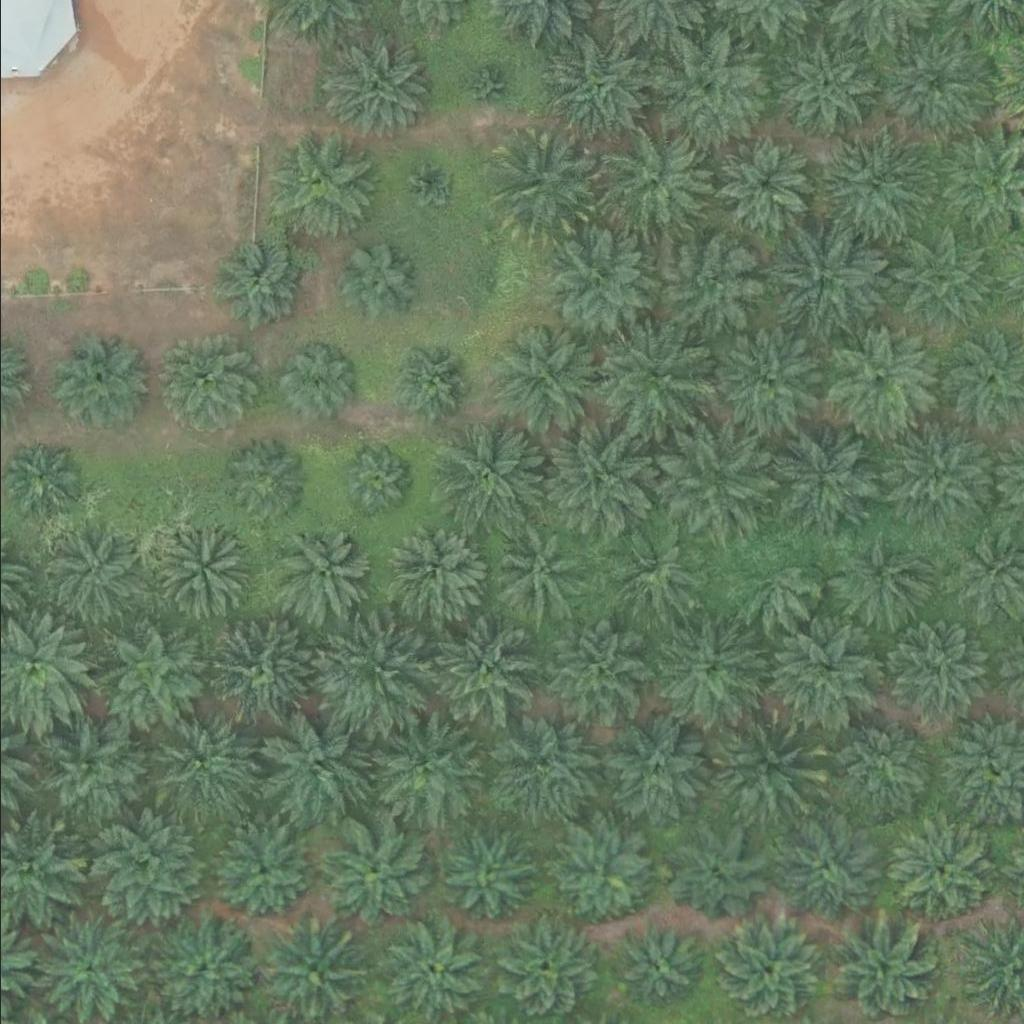Kelapa_Sawit: (439, 419, 553, 532), (708, 322, 822, 435), (598, 319, 712, 432), (879, 220, 993, 333), (769, 222, 883, 335), (814, 130, 928, 243), (880, 617, 993, 730), (600, 714, 713, 827), (490, 710, 603, 823), (766, 619, 879, 732), (653, 610, 766, 723), (536, 616, 649, 729), (489, 324, 602, 437), (649, 226, 762, 339), (318, 618, 431, 731), (201, 619, 314, 732), (370, 715, 483, 828), (256, 712, 369, 825), (145, 706, 258, 819), (30, 714, 143, 827), (90, 814, 203, 927), (424, 616, 538, 728), (658, 423, 772, 535), (541, 425, 655, 537), (263, 129, 377, 241), (488, 128, 601, 240), (877, 26, 990, 138), (880, 422, 993, 534), (820, 712, 933, 824), (705, 711, 818, 823), (765, 421, 878, 533), (822, 321, 935, 433), (542, 231, 655, 343), (598, 126, 711, 238), (652, 26, 765, 138), (545, 30, 658, 142), (314, 30, 427, 142), (92, 614, 205, 726), (316, 819, 429, 931), (494, 920, 595, 1020), (889, 819, 990, 919), (777, 816, 878, 916), (661, 825, 762, 925), (551, 826, 652, 926), (437, 823, 538, 923), (831, 531, 932, 631), (713, 135, 814, 235), (772, 37, 873, 137), (380, 519, 481, 619), (268, 525, 369, 625), (150, 520, 251, 620), (211, 825, 312, 925), (605, 523, 705, 623), (486, 527, 586, 627), (156, 337, 256, 437), (49, 332, 149, 432), (37, 530, 137, 630), (612, 924, 700, 1012), (727, 540, 815, 628), (216, 246, 304, 334), (331, 240, 419, 327), (381, 339, 469, 426), (272, 336, 360, 423), (217, 438, 305, 525), (1, 443, 77, 518), (338, 441, 413, 516), (460, 64, 511, 114), (404, 158, 455, 208), (468, 255, 518, 305)
